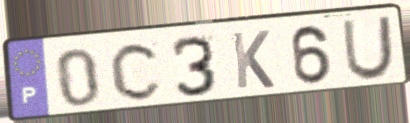0: (53, 46, 105, 108)
3: (170, 33, 220, 99)
6: (288, 22, 333, 87)
C: (107, 40, 165, 103)
K: (229, 29, 277, 92)
U: (340, 13, 396, 82)
